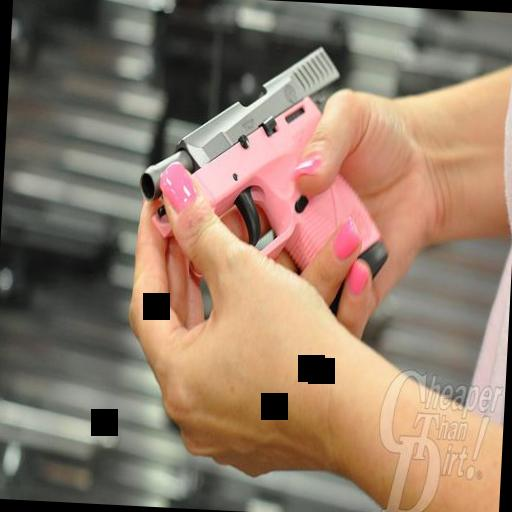Handgun: (130, 27, 402, 308)
